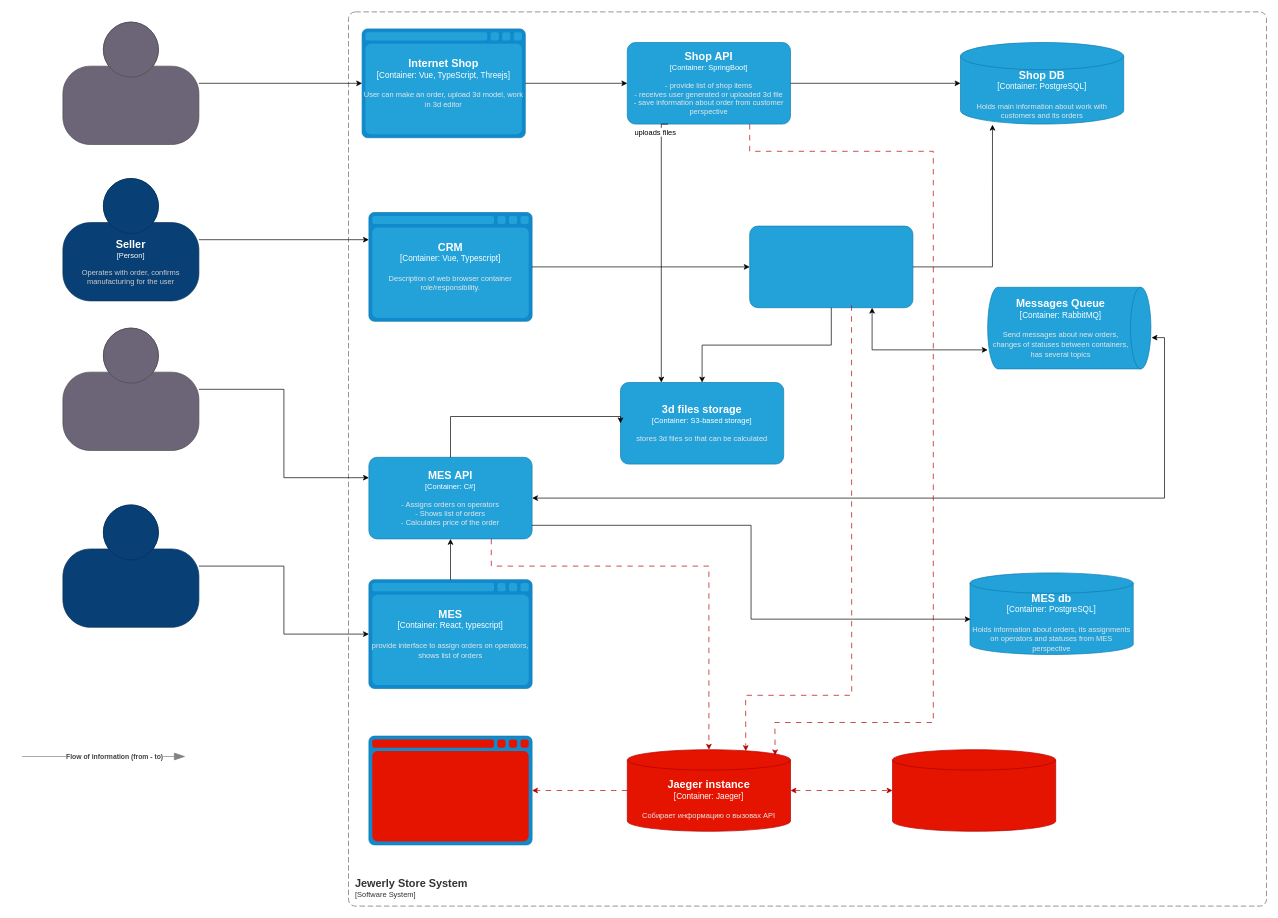
This 1278x918 diagram has some shape labels left out. The box of each missing label's shape, as (x1, y1, x2, y2) in pixels:
API user [Person] Description of external person.: (62, 327, 199, 451)
CRM API [Container: SpringBoot] Description of container role/responsibility.: (749, 225, 913, 308)
Customer [Person] Description of external person.: (62, 21, 199, 144)
Jaeger UI [Container: ] Визуализация собранных данных от трейсинга: (368, 735, 532, 845)
Operator [Person] Takes order in work, manufactures jewerly: (62, 504, 199, 627)
Tracing DB [Container: PostgreSQL] Хранит данные трейсинга: (892, 749, 1056, 831)
